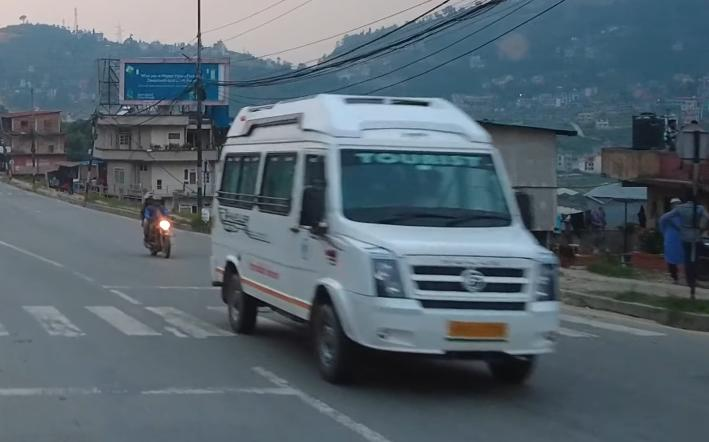bike: (140, 214, 176, 261)
micro_bus: (209, 91, 571, 391)
